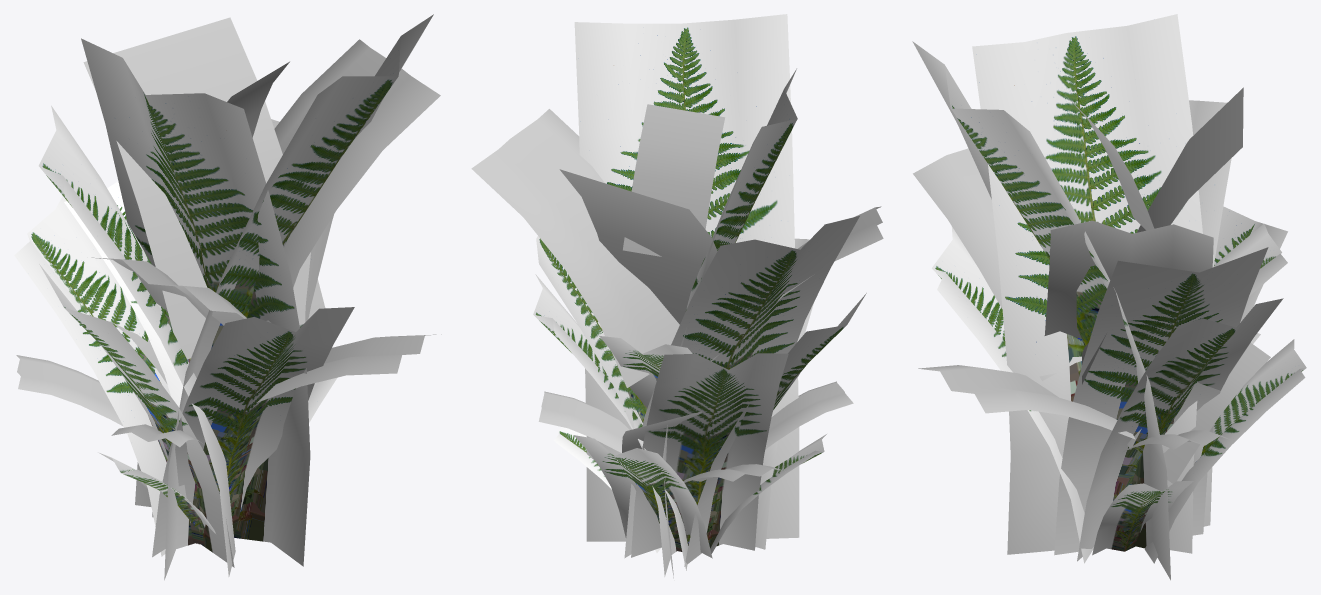
The model's file is plant_02.fbx.
3 views of the same model, side by side, from view 1: azimuth 30°, elevation 25°; view 2: azimuth 150°, elevation 25°; view 3: azimuth 270°, elevation 25° (orthographic). The views are drawn at different scales.
Visible parts, largest first — view 1: Plane.027; view 2: Plane.027; view 3: Plane.027.
Boxes of the visible parts, x1,y1,x2,y2 form: Plane.027: (14, 14, 441, 580); Plane.027: (471, 14, 883, 578); Plane.027: (912, 14, 1306, 580).
Bounding box in the file's own units: 136 × 184 × 131.
